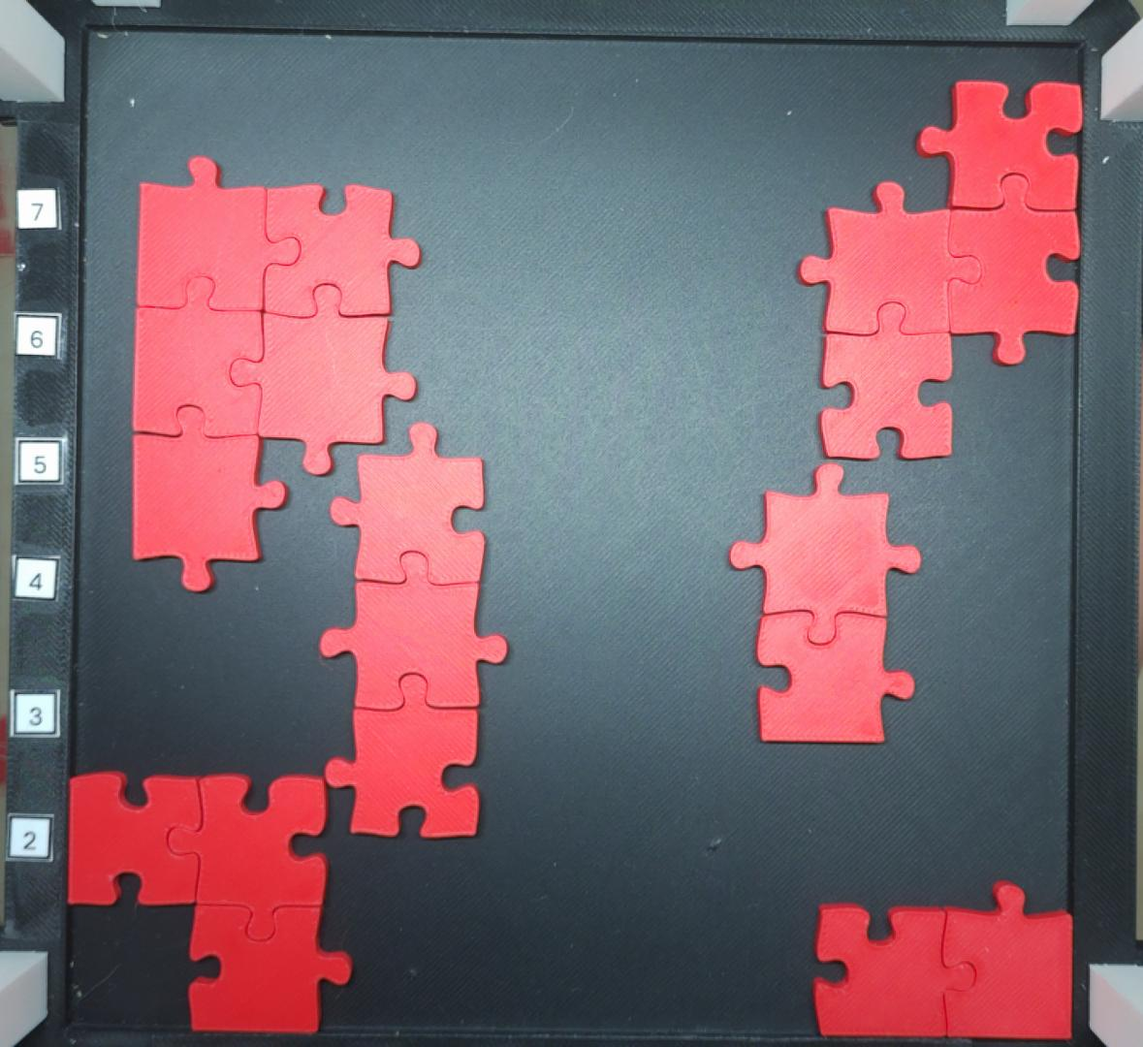p_2: (729, 461, 922, 748), (812, 879, 1073, 1041)
p_3: (323, 422, 515, 843), (65, 773, 355, 1034)
p_4: (796, 79, 1084, 457)
p_m: (133, 157, 420, 588)
